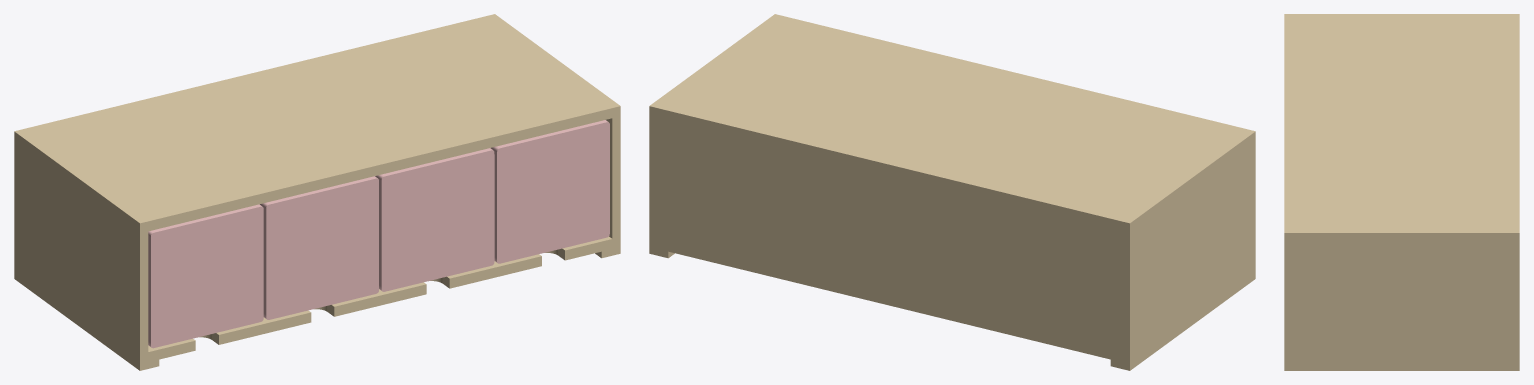
3 renders of one model, left to right at view 1: azimuth 30°, elevation 25°; view 2: azimuth 150°, elevation 25°; view 3: azimuth 270°, elevation 25°, orthographic. The views are drawn at different scales.
Parts seen in each view (by area): view 1: box, front; view 2: box; view 3: box.
Boxes of the visible parts, x1,y1,x2,y2 form: box: (14,14,620,370); front: (148,120,609,348); box: (649,14,1255,370); box: (1284,14,1519,370).
Bounding box in the file's own units: 0.375 × 0.11 × 0.17.
